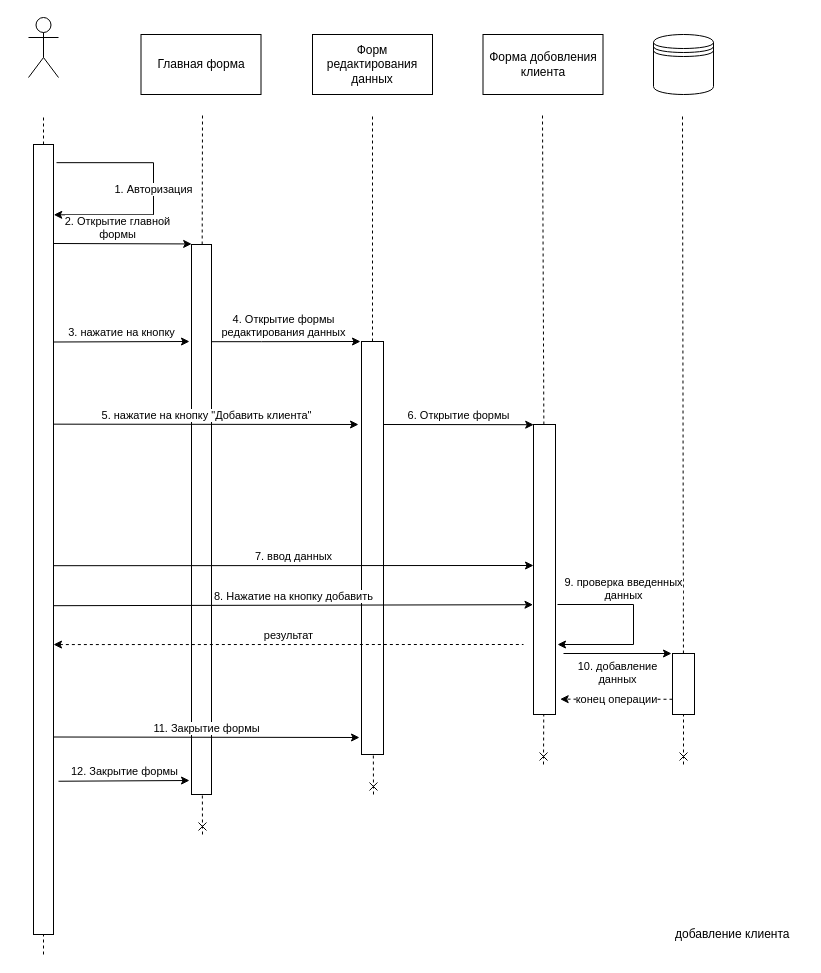
Some shapes in this 821 by 973 pixel diagram are drawn without their labels. Here are the shapes that lost their labels. From the top down, the centre of each, then its label:
the point at 43,47: оператор
the point at 683,64: БД
